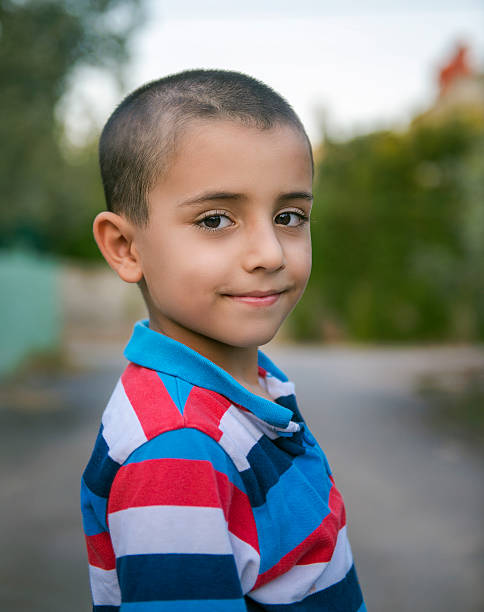face: (154, 155, 315, 343)
